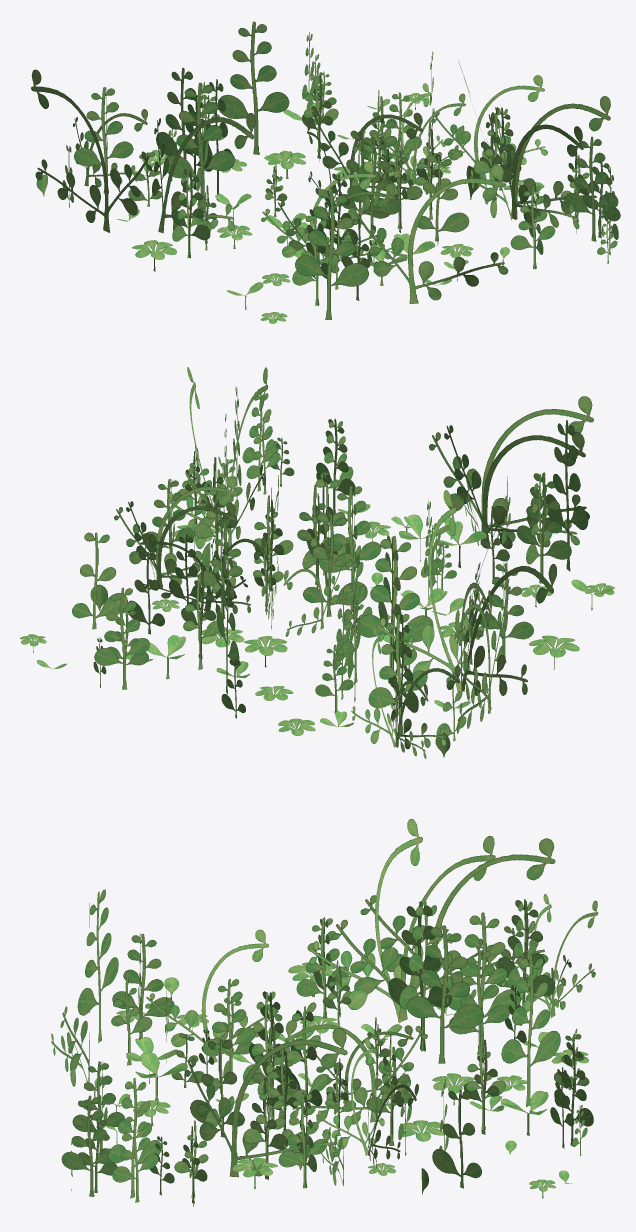
The model's file is LeafSetG_21.fbx.
The picture shows the model from 3 angles, top to bottom: view 1: azimuth 30°, elevation 25°; view 2: azimuth 150°, elevation 25°; view 3: azimuth 270°, elevation 25°; orthographic projection. The views are drawn at different scales.
Parts seen in each view (by area): view 1: LeafSetG_21; view 2: LeafSetG_21; view 3: LeafSetG_21.
Part boxes in pixels (x1,y1,x2,y2): LeafSetG_21: (31,21,620,323); LeafSetG_21: (20,367,614,758); LeafSetG_21: (51,819,598,1206).
Size of the model in its own units: 2.39 by 0.7809 by 2.42.
